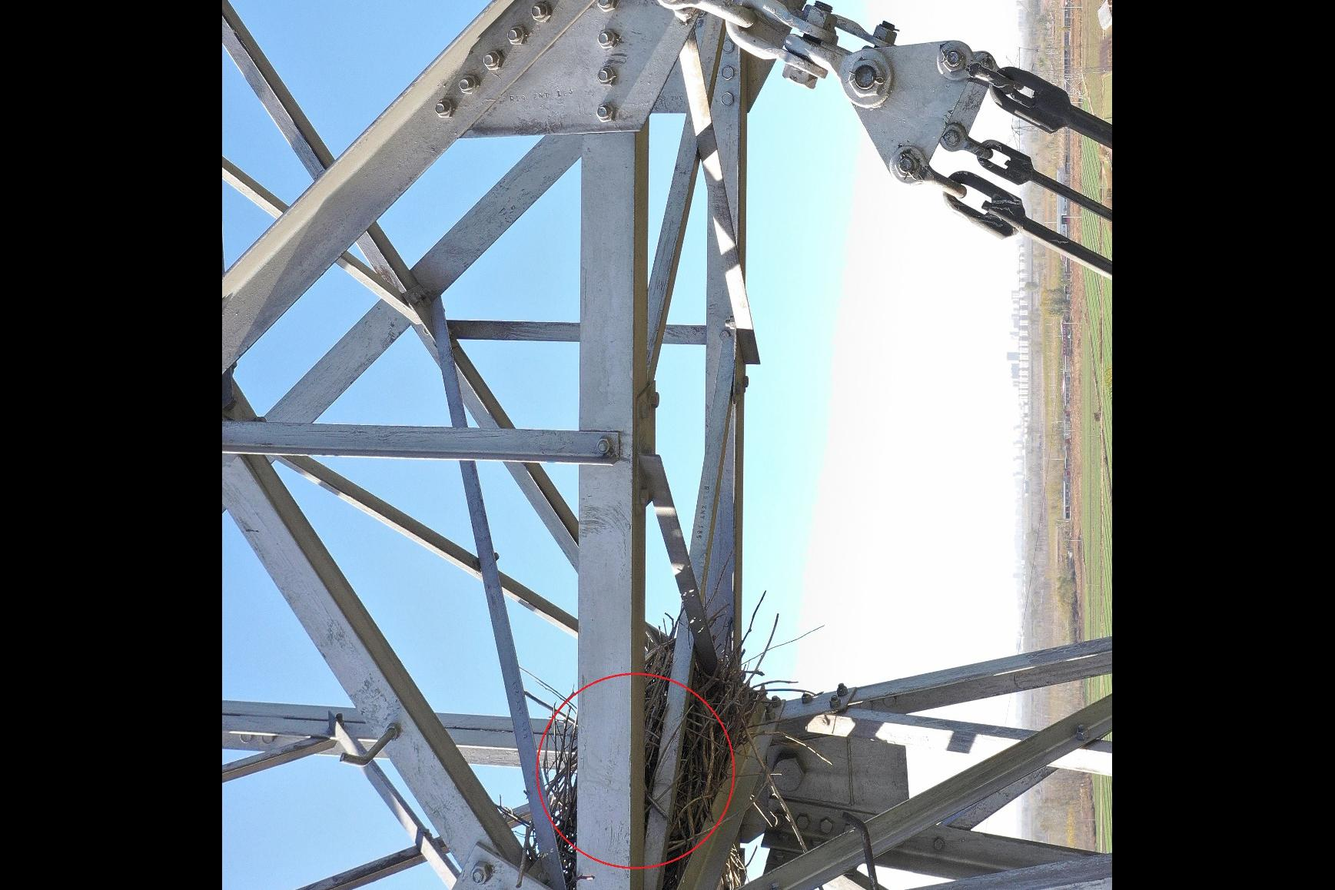nest: (522, 596, 830, 890)
